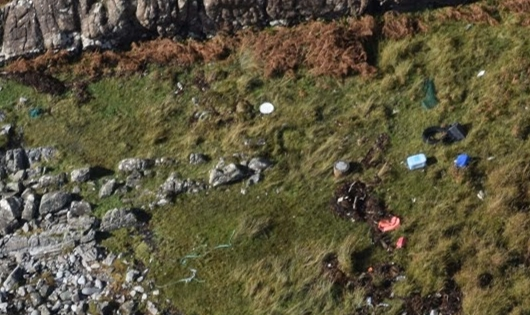scattered_barrel: (325, 148, 478, 254), (399, 63, 500, 180)
tube: (176, 240, 231, 285)
white_in_green: (242, 83, 288, 130), (14, 92, 55, 129)
